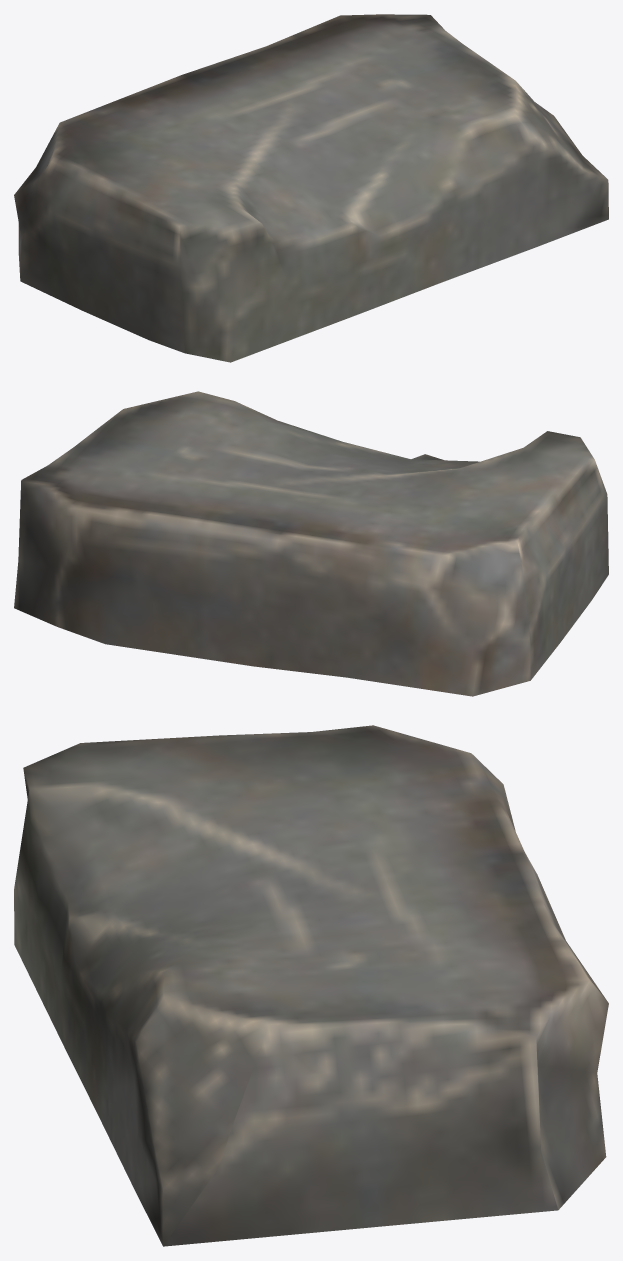
The model's file is Rock_A1.fbx.
3 renders of one model, top to bottom at view 1: azimuth 30°, elevation 25°; view 2: azimuth 150°, elevation 25°; view 3: azimuth 270°, elevation 25°, orthographic. The views are drawn at different scales.
Visible parts, largest first — view 1: Rock_A1__2_; view 2: Rock_A1__2_; view 3: Rock_A1__2_.
Part boxes in pixels (box(x1,y1,x2,y2)): Rock_A1__2_: box(14, 14, 608, 362); Rock_A1__2_: box(14, 391, 608, 696); Rock_A1__2_: box(14, 725, 608, 1246).
Bounding box in the file's own units: 0.4004 × 0.0965 × 0.2829.
1 material, 1 textured.
